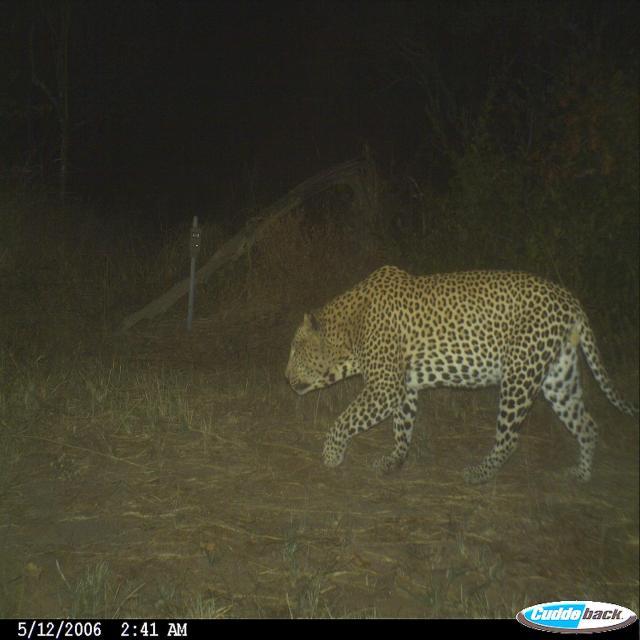Leopard: (281, 263, 640, 485)
